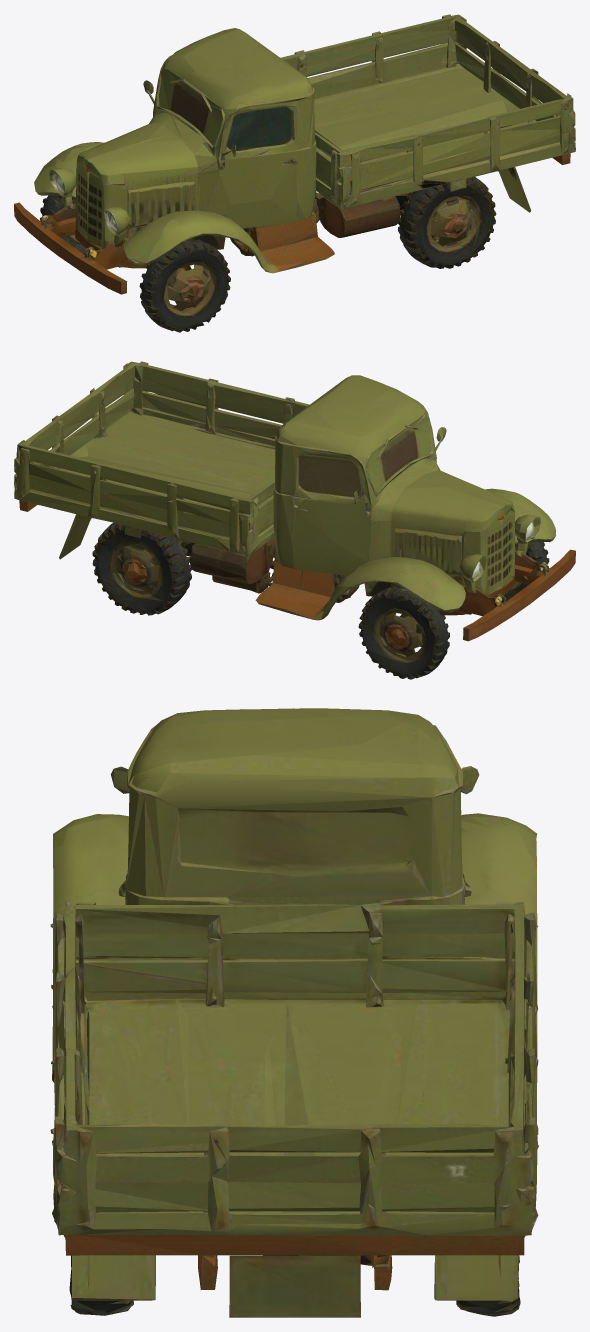
The model's file is truck.glb.
The picture shows the model from 3 angles, top to bottom: view 1: azimuth 30°, elevation 25°; view 2: azimuth 150°, elevation 25°; view 3: azimuth 270°, elevation 25°; orthographic projection. The views are drawn at different scales.
Bounding box in the file's own units: 1.9 × 0.8294 × 0.8748.
Materials: 1 (1 with a texture image).
